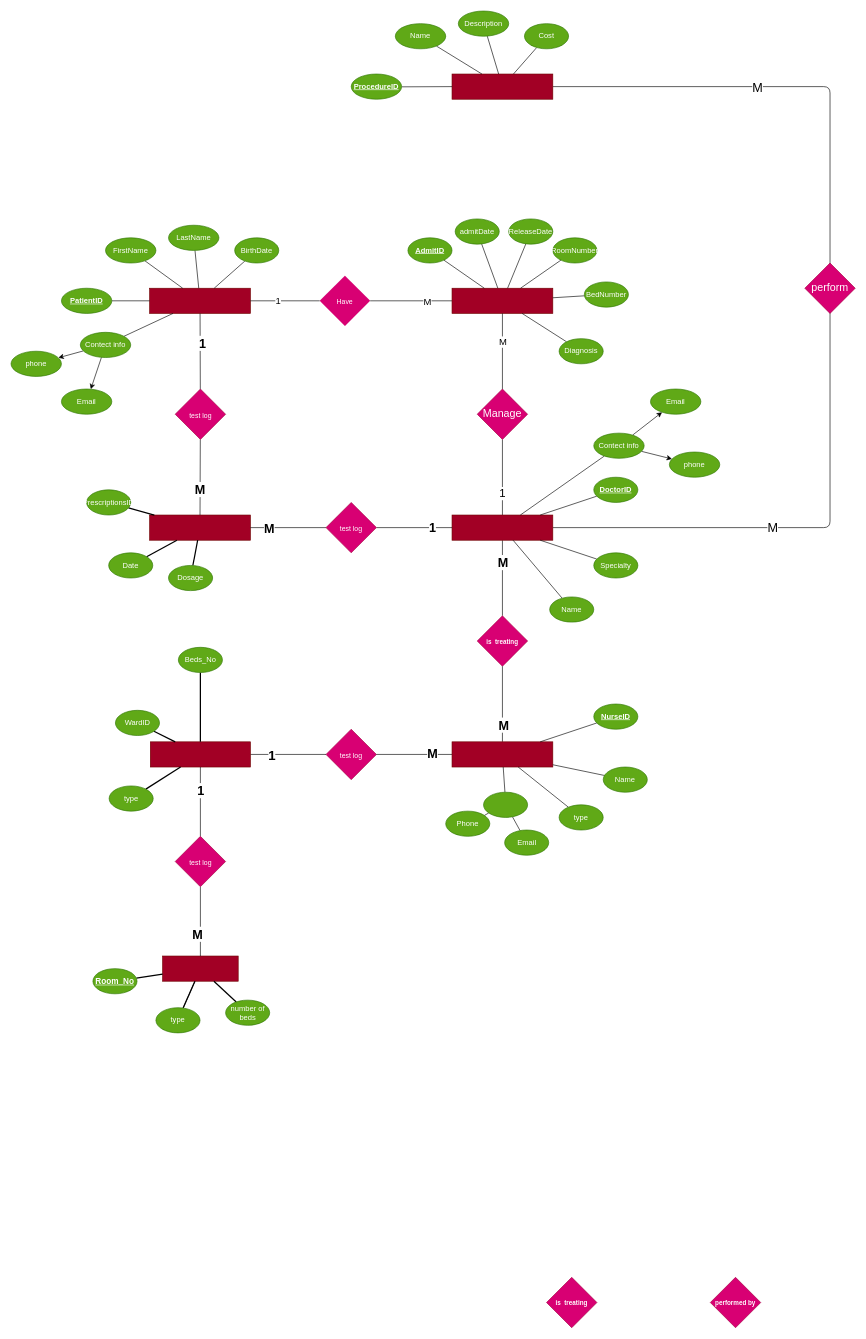
The diagram is 866 pixels wide and 1339 high, and some of its shapes have lost their labels. Each missing label, with the box of its shape:
Addmission: (451, 288, 553, 313)
Contact info: (483, 792, 528, 817)
Doctor: (451, 514, 553, 540)
Nurse: (451, 741, 553, 767)
Patient: (149, 288, 250, 313)
Prescription: (149, 514, 250, 540)
Procedure: (451, 73, 553, 99)
Rooms: (162, 955, 238, 981)
Wards: (150, 741, 250, 767)
